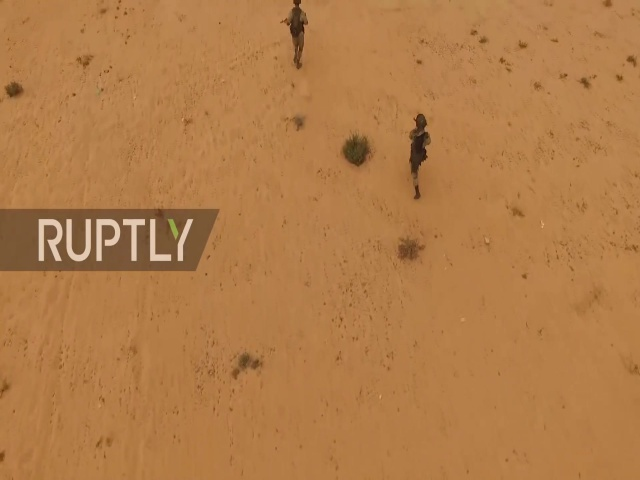person: (405, 111, 431, 201), (282, 1, 310, 72)
